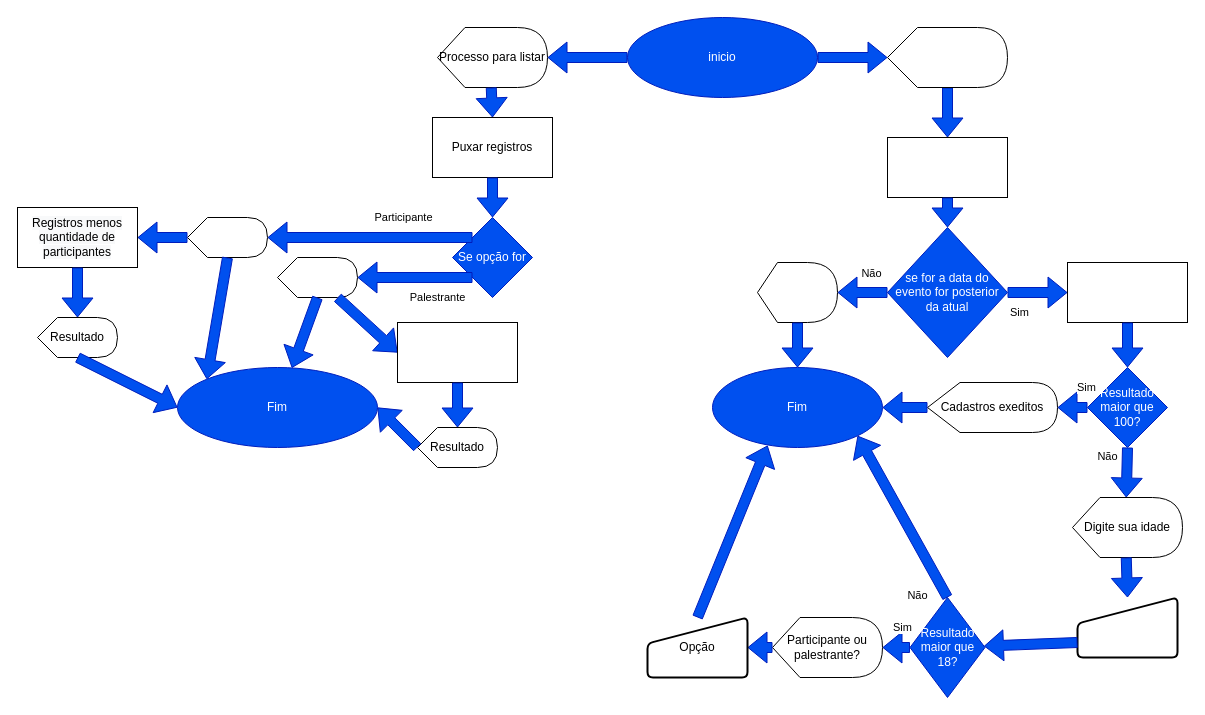
Some shapes in this 1205 by 715 pixel diagram are drawn without their labels. The box of each missing label's shape, as (x1, y1, x2, y2) in pixels:
Idade: (1076, 596, 1178, 658)
Não poderá cadastrar: (756, 262, 838, 322)
Palestrantes: (276, 256, 358, 298)
Participantes: (186, 216, 268, 258)
Processo para cadastrar: (886, 26, 1008, 88)
Puxar data atual: (886, 136, 1008, 198)
Puxar quantos registros já possuem: (1066, 262, 1188, 322)
Registros menos quantidade de palestrantes: (396, 322, 518, 382)
